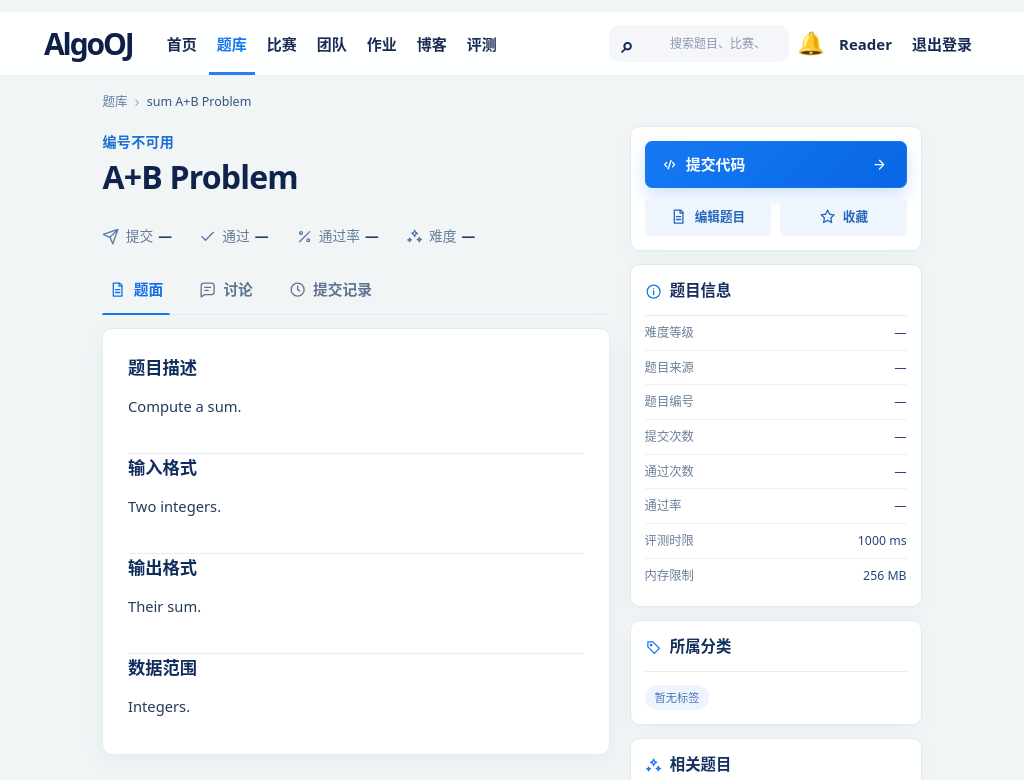
Test: Web UI polish › persists the problem favorite action through the real profile API
Click the button "收藏": (843, 217) [780,197,907,236]
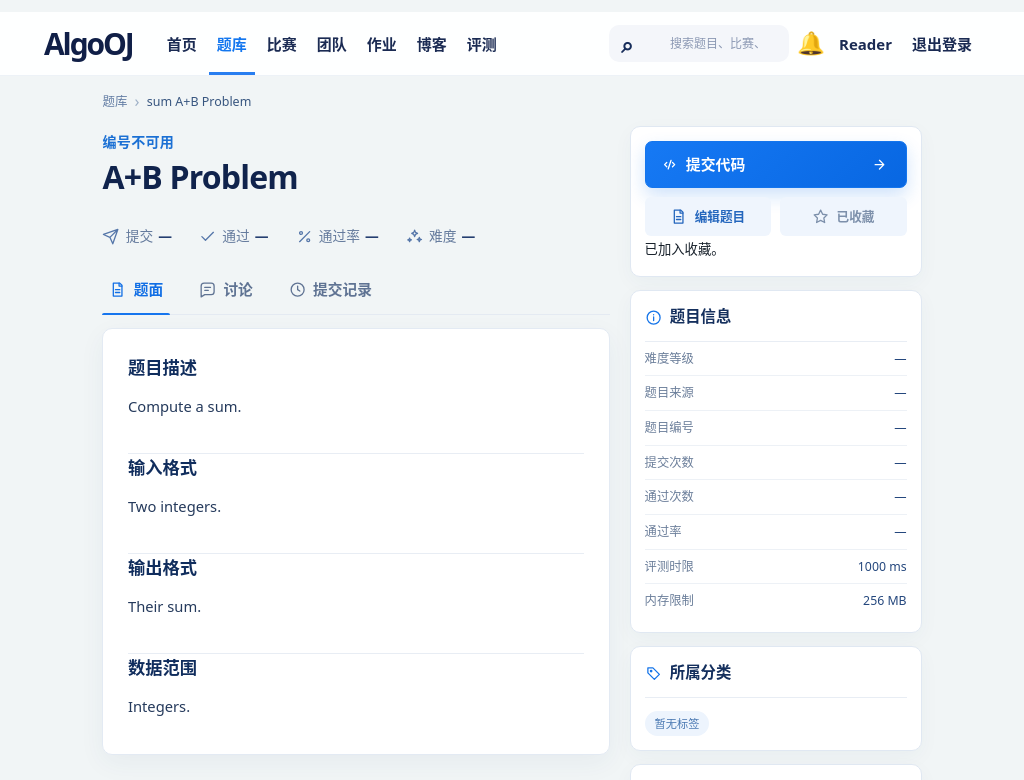
Now the button "已收藏" is disabled, box [780,197,907,236]
